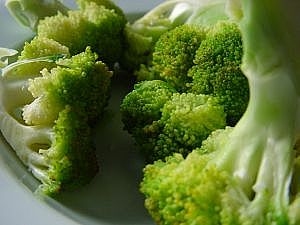broccoli: (138, 0, 299, 224), (0, 0, 128, 199)
